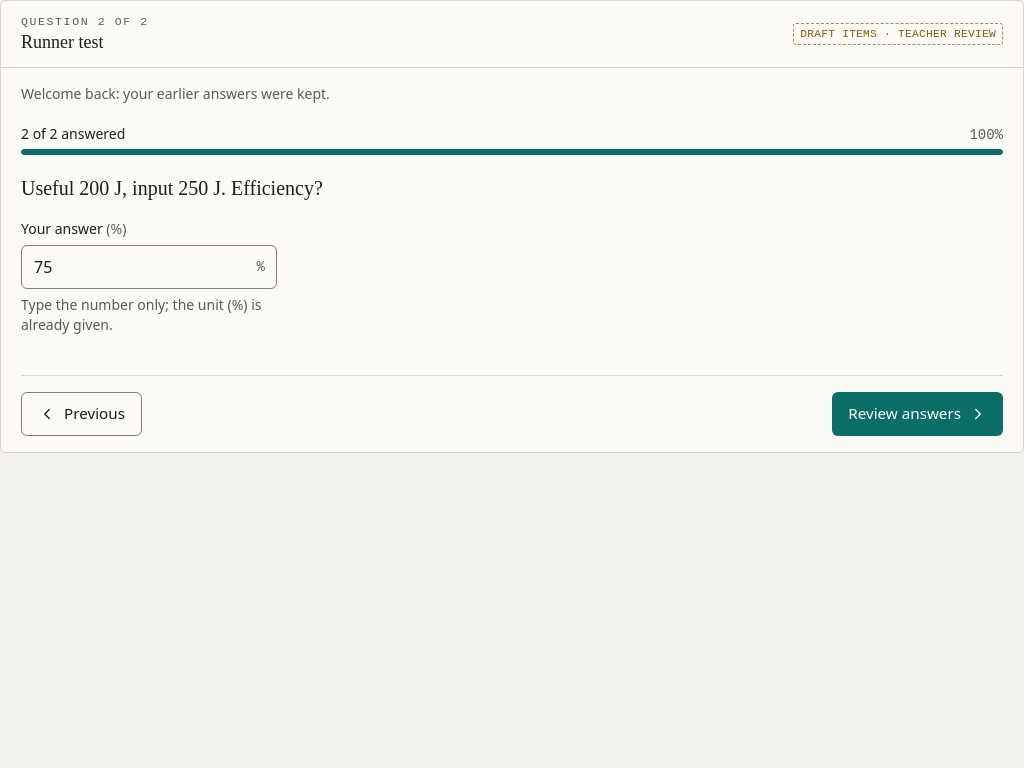
Scenario: AssessmentRunner, test mode › shows no feedback before submission and keeps answers across a remount
Earlier steps of the test are not shown.
Expected: the text "Welcome back: your earlier answers were kept." is shown, [21,84,330,103]
Expected: the field labelled "Your answer (%)" holds "75", [21,244,277,288]
Click the button "Review answers".
click(918, 414)  # box [832,392,1003,436]
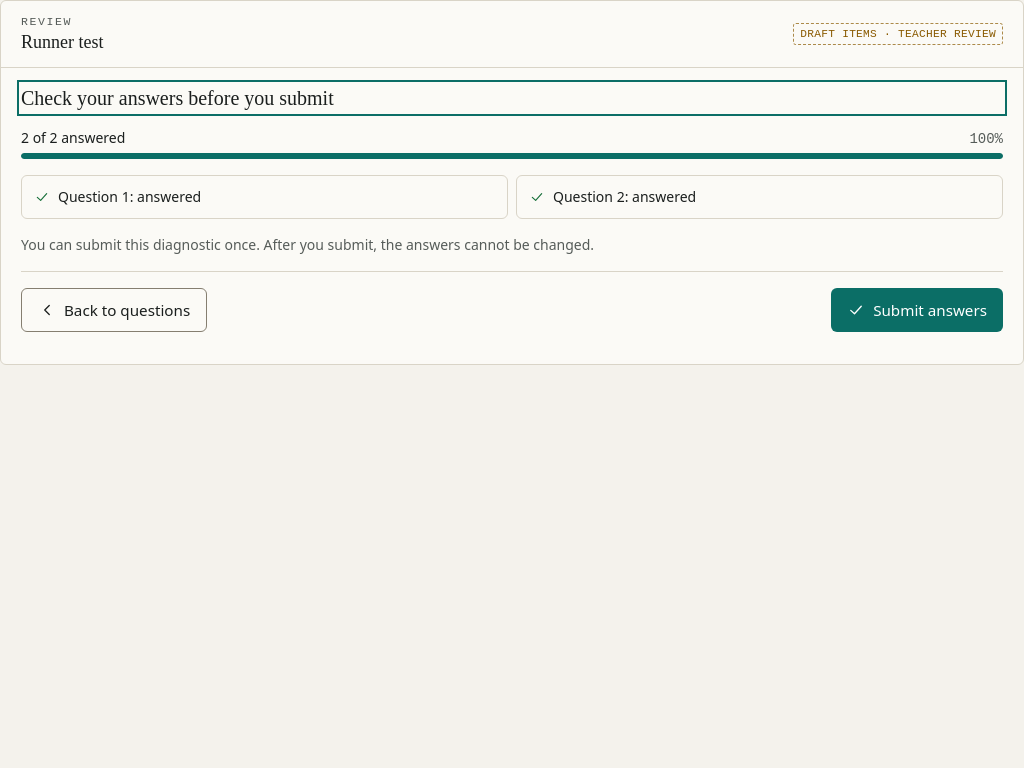
Result: the text "Question 1: answered" is shown at [58,187,201,207]
Click the button "Submit answers".
click(917, 310)  # box [831,288,1003,332]
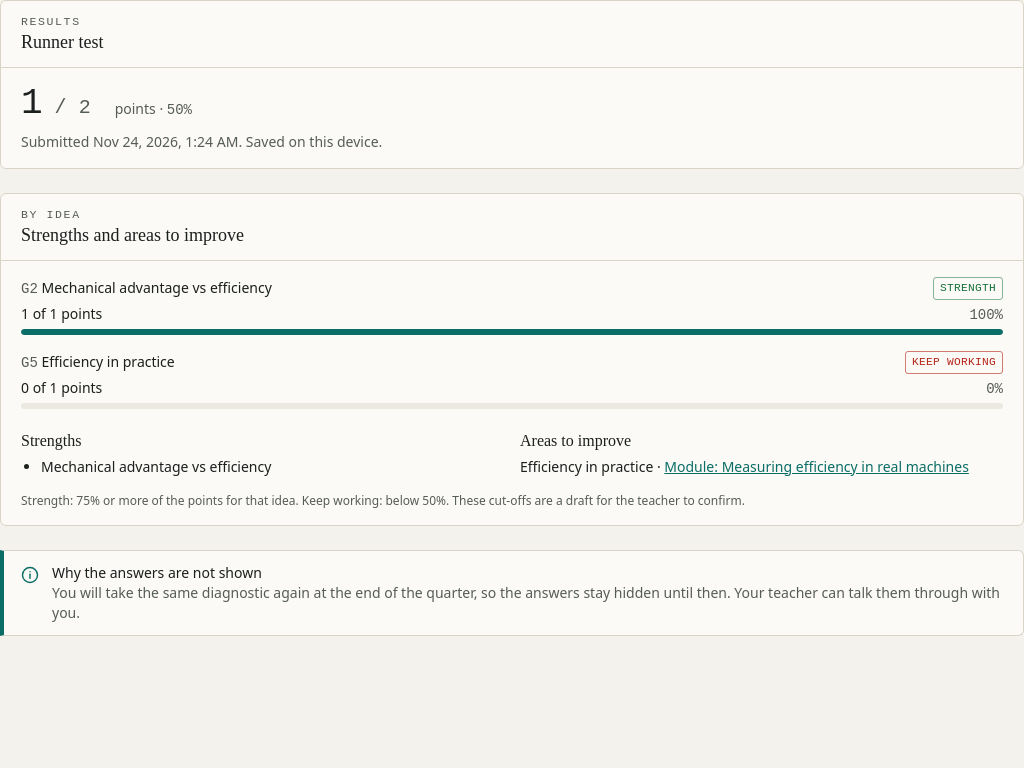
Result: the text "Why the answers are not shown" is shown at [52,563,262,582]
